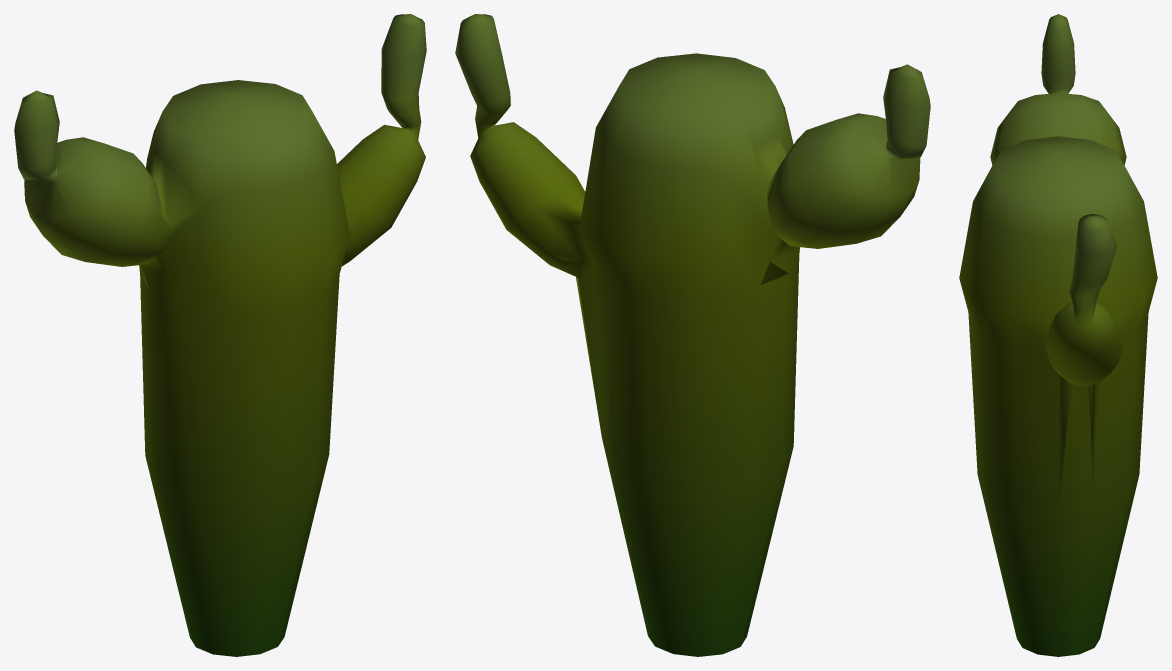
File: VEG0410026.fbx
3 renders of one model, left to right at view 1: azimuth 30°, elevation 25°; view 2: azimuth 150°, elevation 25°; view 3: azimuth 270°, elevation 25°, orthographic. The views are drawn at different scales.
Parts seen in each view (by area): view 1: smVEG0410026; view 2: smVEG0410026; view 3: smVEG0410026.
Part boxes in pixels (x1,y1,x2,y2): smVEG0410026: [14, 14, 426, 656]; smVEG0410026: [455, 14, 930, 656]; smVEG0410026: [959, 14, 1157, 656].
Bounding box in the file's own units: 163 × 216 × 72.47.
Materials: 1 (1 with a texture image).
